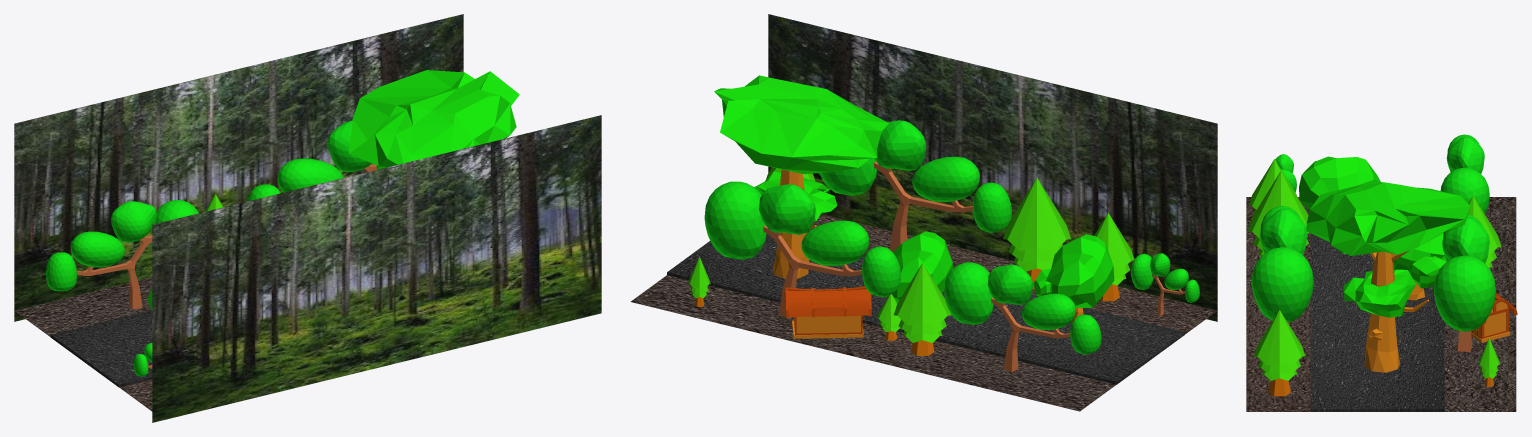
File: env4.game.fbx
The picture shows the model from 3 angles, left to right: view 1: azimuth 30°, elevation 25°; view 2: azimuth 150°, elevation 25°; view 3: azimuth 270°, elevation 25°; orthographic projection. The views are drawn at different scales.
Visible parts, largest first — view 1: Plane.001, 200, Icosphere.002, Plane.002, Plane, Icosphere.003; view 2: Plane.001, Plane, Plane.002, 200, Icosphere.003, Icosphere.001, Icosphere.002, house_Cube.026, 135, Cone.005, Cone.001, 135.001 (+4 smaller); view 3: Plane.002, 200, Plane, Icosphere.003, Icosphere.001, Cone.003, Icosphere.002, 135, 135.001, Cone.005, house_Cube.026, Cone.001 (+3 smaller).
Boxes of the visible parts, x1=… form: Plane.001: x1=14, y1=14, x2=601, y2=422; 200: x1=348, y1=70, x2=519, y2=169; Icosphere.002: x1=46, y1=200, x2=198, y2=309; Plane.002: x1=50, y1=310, x2=152, y2=387; Plane: x1=14, y1=277, x2=152, y2=411; Icosphere.003: x1=248, y1=120, x2=376, y2=201; Plane.001: x1=768, y1=14, x2=1217, y2=321; Plane: x1=630, y1=214, x2=1217, y2=411; Plane.002: x1=667, y1=233, x2=1184, y2=384; 200: x1=714, y1=75, x2=888, y2=278; Icosphere.003: x1=704, y1=181, x2=901, y2=318; Icosphere.001: x1=819, y1=120, x2=1011, y2=252; Icosphere.002: x1=944, y1=262, x2=1101, y2=372; house_Cube.026: x1=784, y1=286, x2=871, y2=338; 135: x1=1033, y1=234, x2=1114, y2=322; Cone.005: x1=1003, y1=177, x2=1070, y2=289; Cone.001: x1=894, y1=263, x2=951, y2=355; 135.001: x1=881, y1=231, x2=953, y2=302; Plane.002: x1=1310, y1=233, x2=1444, y2=411; 200: x1=1306, y1=179, x2=1470, y2=372; Plane: x1=1246, y1=197, x2=1516, y2=411; Icosphere.003: x1=1433, y1=215, x2=1495, y2=351; Icosphere.001: x1=1251, y1=206, x2=1313, y2=323; Cone.003: x1=1254, y1=310, x2=1305, y2=396; Icosphere.002: x1=1440, y1=134, x2=1489, y2=213; 135: x1=1299, y1=156, x2=1380, y2=209; 135.001: x1=1393, y1=233, x2=1446, y2=300; Cone.005: x1=1248, y1=171, x2=1308, y2=255; house_Cube.026: x1=1455, y1=292, x2=1517, y2=342; Cone.001: x1=1468, y1=196, x2=1501, y2=267.
Bounding box in the file's own units: 1786 × 752 × 953.
